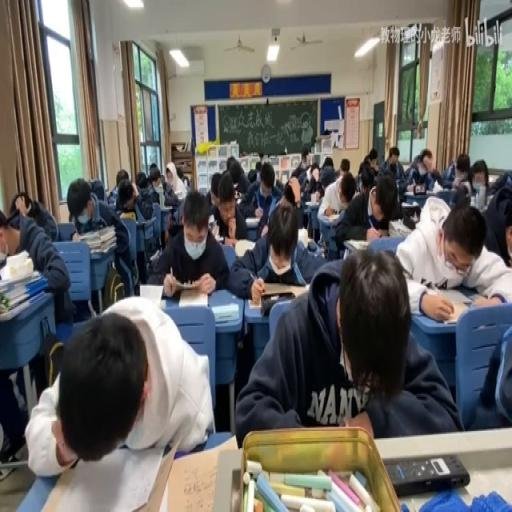calculator: (158, 438, 240, 512), (160, 283, 241, 356), (258, 279, 310, 303), (171, 273, 206, 290), (178, 287, 206, 307), (140, 280, 164, 302), (212, 302, 238, 322), (233, 236, 254, 256), (400, 204, 420, 224), (389, 218, 411, 236), (344, 239, 370, 250), (297, 226, 309, 248), (466, 292, 486, 304), (168, 188, 185, 202), (323, 209, 341, 221), (209, 219, 219, 240), (138, 215, 156, 226), (120, 209, 136, 221), (245, 215, 261, 226), (148, 246, 160, 260), (246, 297, 260, 309), (305, 196, 321, 206), (470, 191, 476, 206), (426, 189, 442, 194), (159, 204, 172, 210)
paper: (235, 248, 457, 445), (28, 294, 214, 480), (394, 198, 510, 317), (0, 195, 72, 331), (230, 196, 324, 296), (66, 176, 133, 302), (152, 190, 229, 294), (334, 170, 402, 258), (465, 319, 512, 428), (298, 158, 328, 235), (403, 146, 436, 194), (38, 330, 63, 385), (442, 152, 472, 196), (377, 145, 403, 193), (146, 164, 176, 204), (275, 178, 301, 224), (236, 172, 258, 218), (108, 168, 130, 203), (486, 169, 512, 195), (12, 189, 34, 219), (288, 152, 308, 181), (208, 169, 222, 209), (470, 160, 489, 188), (89, 176, 105, 205), (340, 176, 355, 205), (501, 219, 511, 260), (176, 164, 186, 186), (134, 171, 148, 186), (340, 156, 350, 174), (366, 148, 377, 163), (357, 160, 366, 178), (306, 165, 316, 181), (246, 168, 257, 182), (226, 155, 235, 171), (322, 156, 332, 170), (315, 181, 323, 196), (254, 160, 262, 170)
person: (384, 452, 470, 496), (412, 182, 426, 193)
